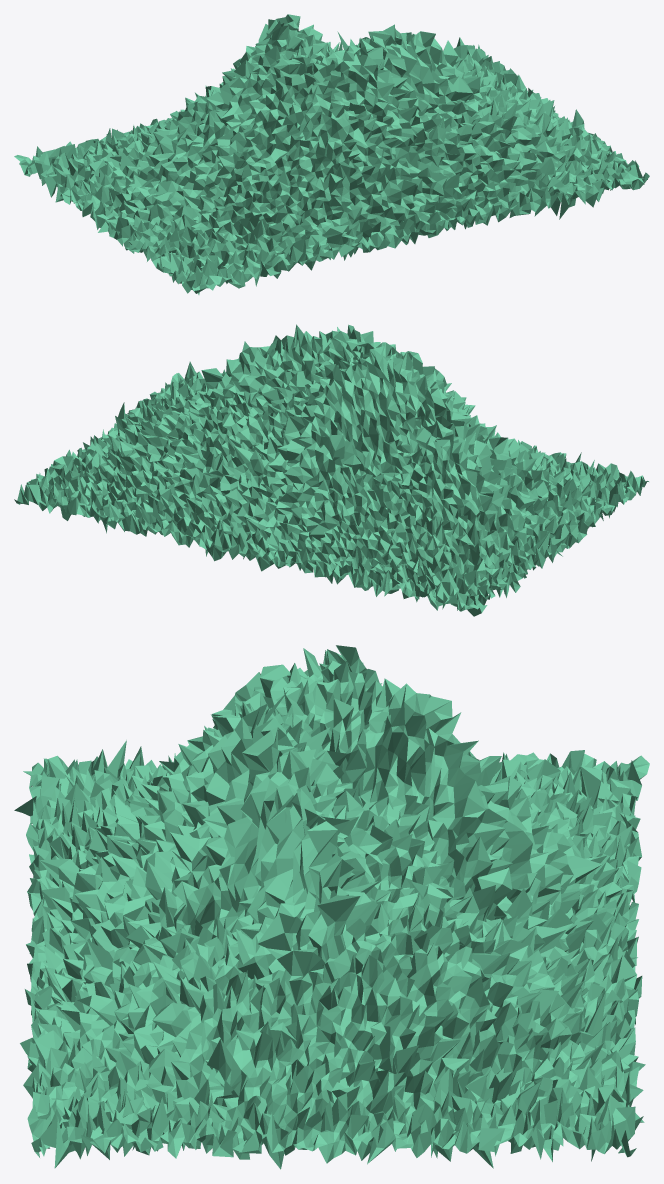
The model's file is mound.fbx.
3 views of the same model, one above another, from view 1: azimuth 30°, elevation 25°; view 2: azimuth 150°, elevation 25°; view 3: azimuth 270°, elevation 25° (orthographic). The views are drawn at different scales.
Visible parts, largest first — view 1: Landscape; view 2: Landscape; view 3: Landscape.
Boxes of the visible parts, box(x1,y1,x2,y2) form: Landscape: box(14, 14, 649, 294); Landscape: box(14, 324, 648, 616); Landscape: box(14, 645, 649, 1169).
Size of the model in its own units: 14969 by 5489 by 10279.
